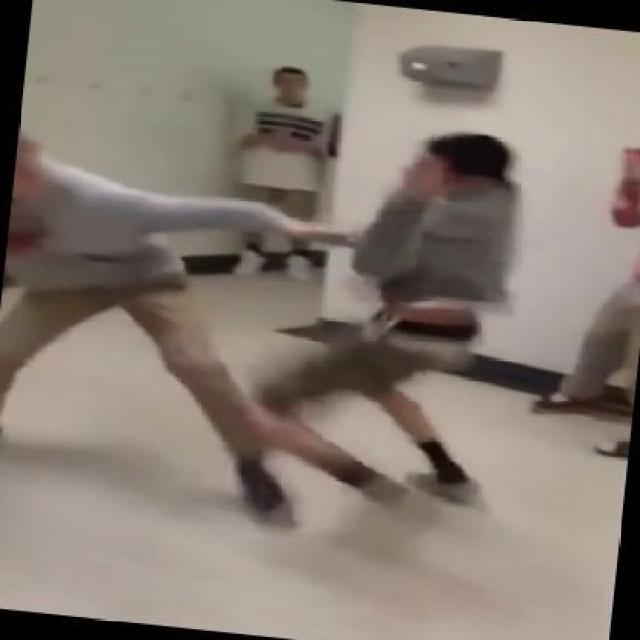fight: (0, 9, 568, 589)
